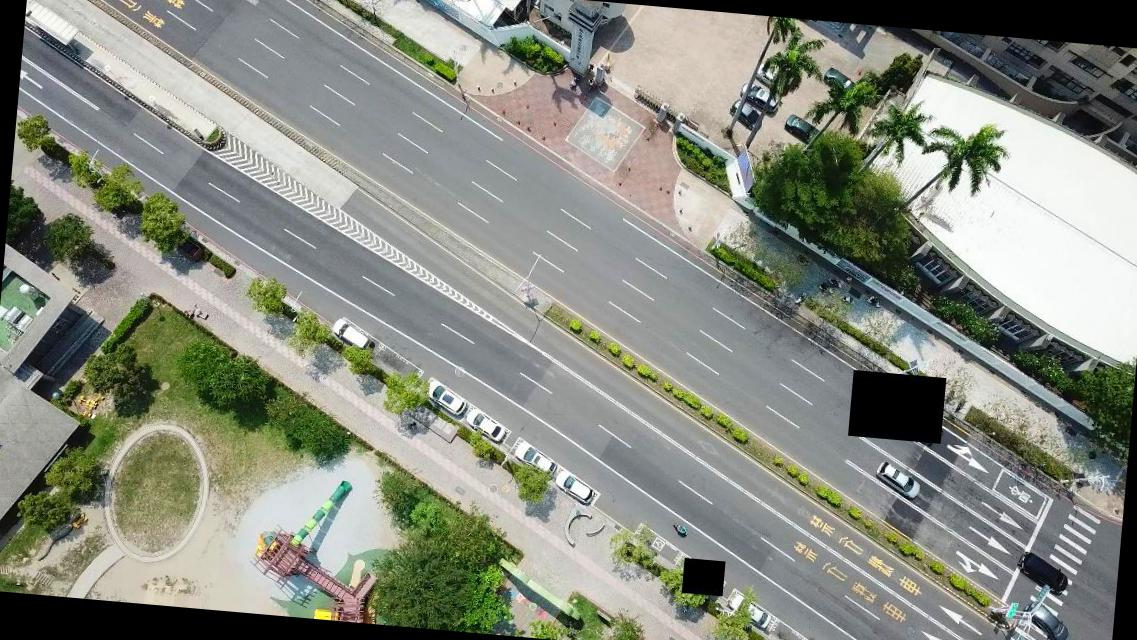vehicle: (1014, 553, 1072, 592), (875, 460, 923, 500), (420, 378, 466, 417), (1023, 601, 1070, 639), (726, 592, 770, 629), (738, 79, 782, 114), (783, 113, 828, 147), (465, 408, 508, 442), (552, 470, 597, 502), (514, 444, 555, 477), (334, 320, 373, 352), (820, 64, 860, 94), (729, 99, 763, 133), (753, 63, 789, 93)
